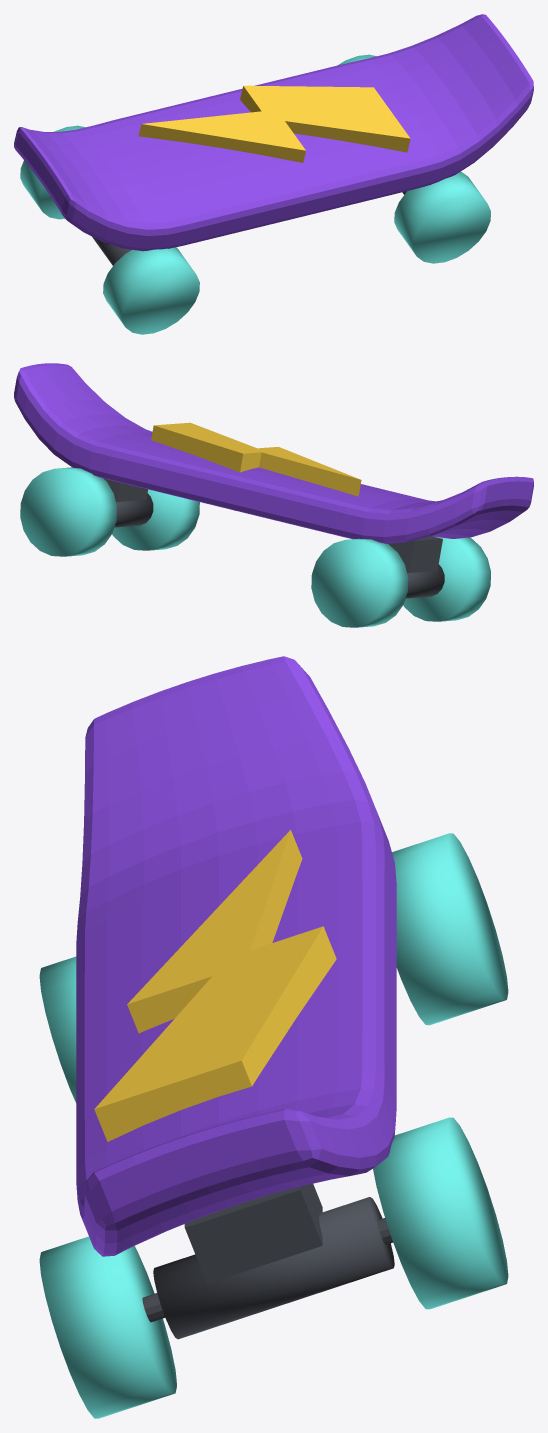
File: board.glb
3 views of the same model, one above another, from view 1: azimuth 30°, elevation 25°; view 2: azimuth 150°, elevation 25°; view 3: azimuth 270°, elevation 25° (orthographic). The views are drawn at different scales.
Parts seen in each view (by area): view 1: Deck, BoltTop, WheelB1, WheelA1, WheelB2, TruckBHanger; view 2: Deck, WheelB2, WheelA2, BoltTop, WheelB1, WheelA1, TruckBPlate, TruckAHanger, TruckBHanger, TruckAPlate; view 3: Deck, BoltTop, WheelA2, WheelA1, WheelB2, TruckAHanger, TruckAPlate, WheelB1.
Part boxes in pixels (left/top/right/bottom): Deck: left=14, top=14, right=533, bottom=251; BoltTop: left=138, top=85, right=410, bottom=162; WheelB1: left=103, top=247, right=199, bottom=334; WheelA1: left=394, top=171, right=490, bottom=263; WheelB2: left=20, top=125, right=85, bottom=219; TruckBHanger: left=92, top=236, right=131, bottom=265; Deck: left=14, top=363, right=533, bottom=543; WheelB2: left=311, top=538, right=408, bottom=627; WheelA2: left=20, top=467, right=116, bottom=556; BoltTop: left=151, top=422, right=361, bottom=496; WheelB1: left=403, top=536, right=490, bottom=621; WheelA1: left=112, top=489, right=199, bottom=550; TruckBPlate: left=388, top=536, right=442, bottom=572; TruckAHanger: left=114, top=493, right=153, bottom=527; TruckBHanger: left=405, top=564, right=444, bottom=598; TruckAPlate: left=103, top=478, right=147, bottom=501; Deck: left=76, top=656, right=396, bottom=1256; BoltTop: left=94, top=830, right=336, bottom=1141; WheelA2: left=373, top=1117, right=508, bottom=1309; WheelA1: left=39, top=1236, right=176, bottom=1418; WheelB2: left=392, top=833, right=508, bottom=1025; TruckAHanger: left=153, top=1197, right=394, bottom=1339; TruckAPlate: left=184, top=1183, right=322, bottom=1283; WheelB1: left=39, top=956, right=76, bottom=1102.
Size of the model in its own units: 0.66 by 0.2593 by 0.286.
